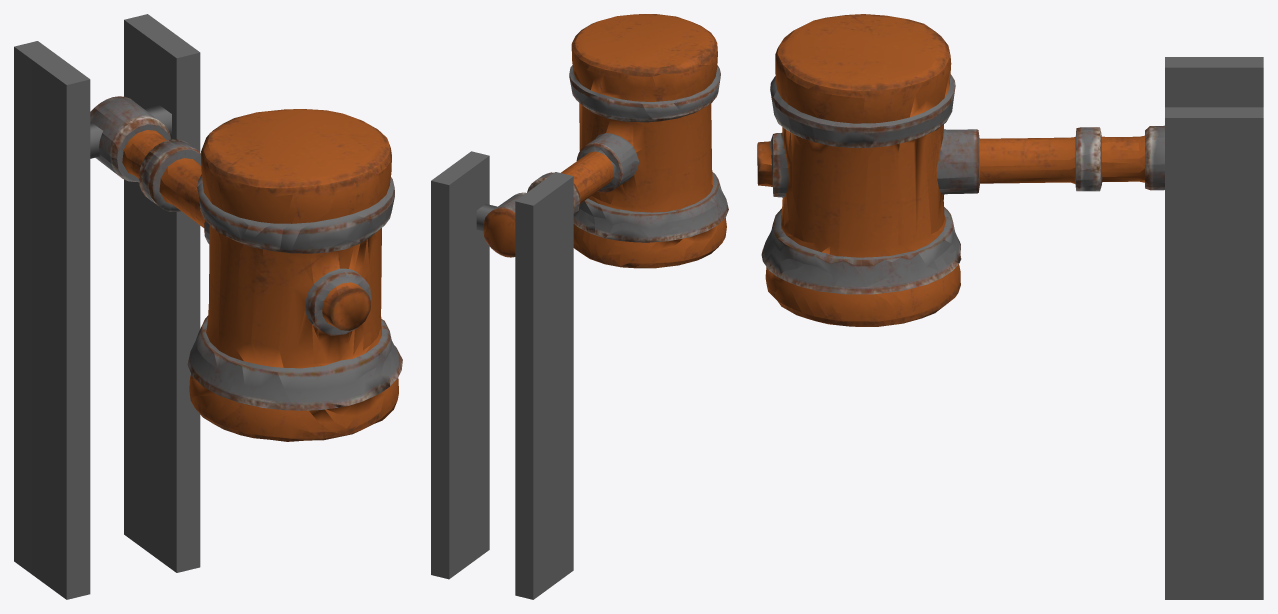
File: Mallet.fbx
3 views of the same model, side by side, from view 1: azimuth 30°, elevation 25°; view 2: azimuth 150°, elevation 25°; view 3: azimuth 270°, elevation 25° (orthographic). The views are drawn at different scales.
Visible parts, largest first — view 1: Axis, Base; view 2: Axis, Base; view 3: Base, Axis.
Part boxes in pixels (<box>): Axis: <box>14,14,200,599</box>; Base: <box>90,96,402,441</box>; Axis: <box>431,151,573,599</box>; Base: <box>483,14,728,268</box>; Base: <box>757,14,1164,326</box>; Axis: <box>1165,57,1263,599</box>.
Size of the model in its own units: 1.4 by 4 by 3.51.
